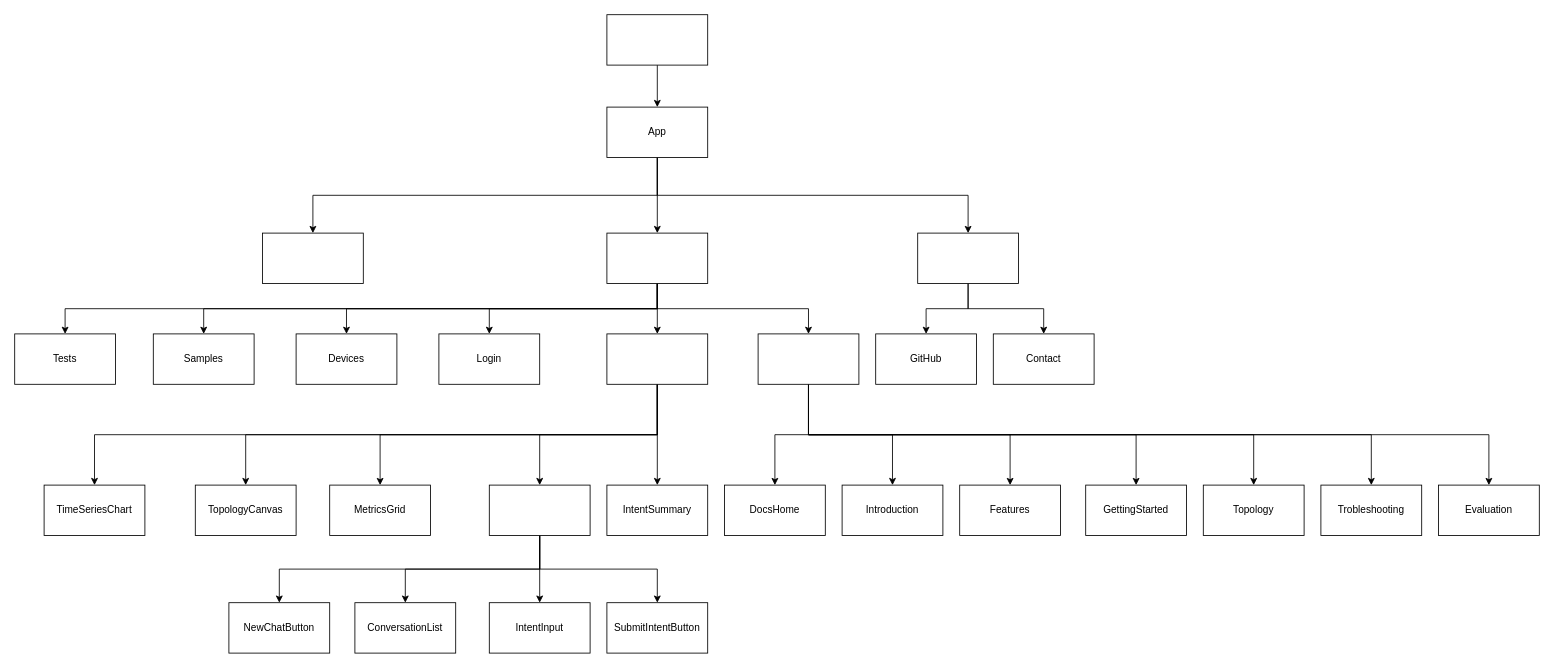
Image size: 1554x668. Some labels were removed from this diagram. The shapes that lost their labels are listed below. From the top down, each one's box as (x1, y1, x2, y2) in pixels, then its label:
(606, 14, 708, 65): AuthProvider
(262, 232, 363, 284): NavBar
(606, 232, 708, 284): Outlet
(917, 232, 1018, 284): Footer
(606, 333, 708, 384): Dashboard
(757, 333, 859, 384): Docs
(488, 484, 590, 536): ChatInterface
